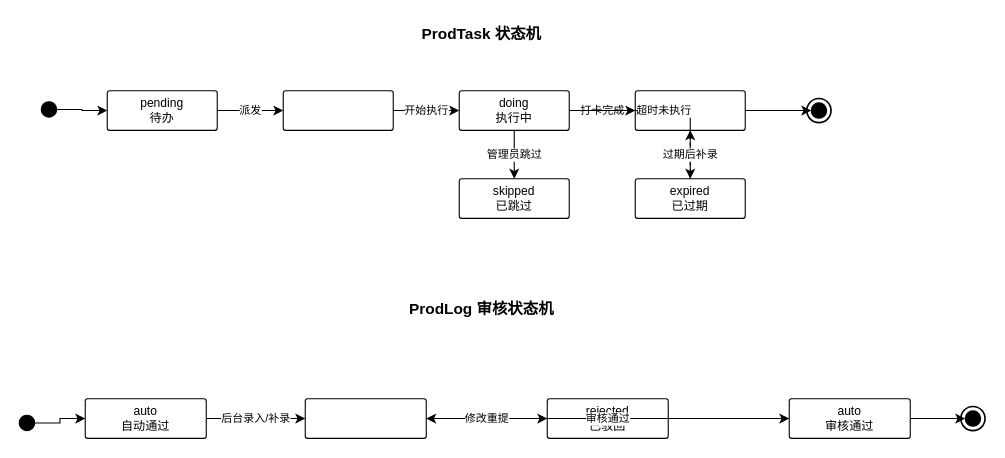
The diagram is 1005 pixels wide and 458 high, and some of its shapes have lost their labels. Here are the shapes that lost their labels. From the top down, the centre of each, then its label:
At point (337, 110): "assigned 已派发".
At point (689, 110): "done 已完成".
At point (365, 418): "pending 待审核".
